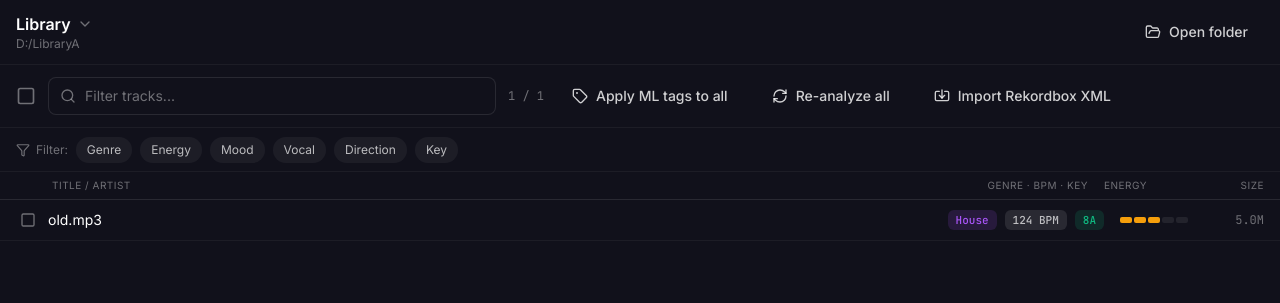
it: <LibraryBrowser /> — new-tracks banner › clears after the incremental analyze the banner itself starts
Open LibraryB through the switcher so the banner probe runs.
Step 1. Click the button "Library" → (54, 24), box x1=16 y1=12 x2=93 y2=36
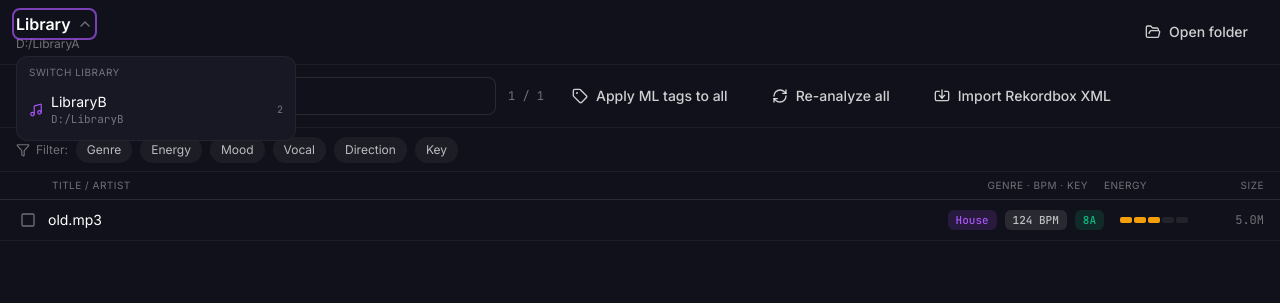
Step 2. Click the option "LibraryB D:/LibraryB 2" → (79, 102), box x1=21 y1=84 x2=291 y2=136
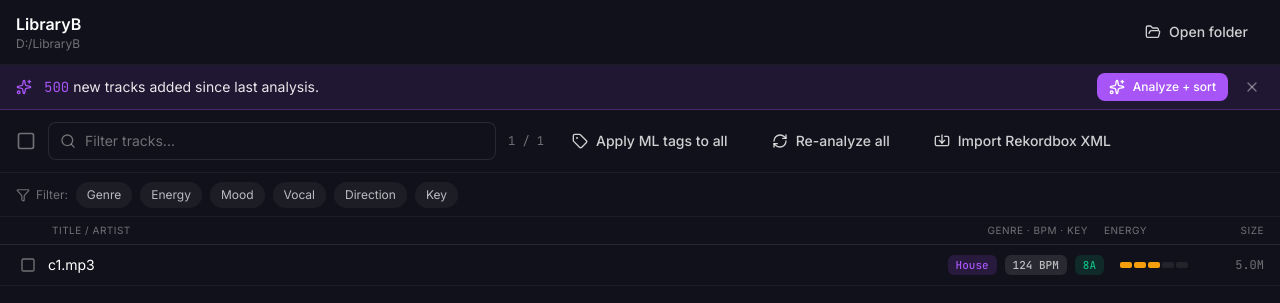
Check: the text "500 new tracks added since last analysis." is shown, box x1=44 y1=78 x2=319 y2=96
Step 3. Click the button "Analyze + sort" → (1162, 87), box x1=1097 y1=73 x2=1228 y2=101
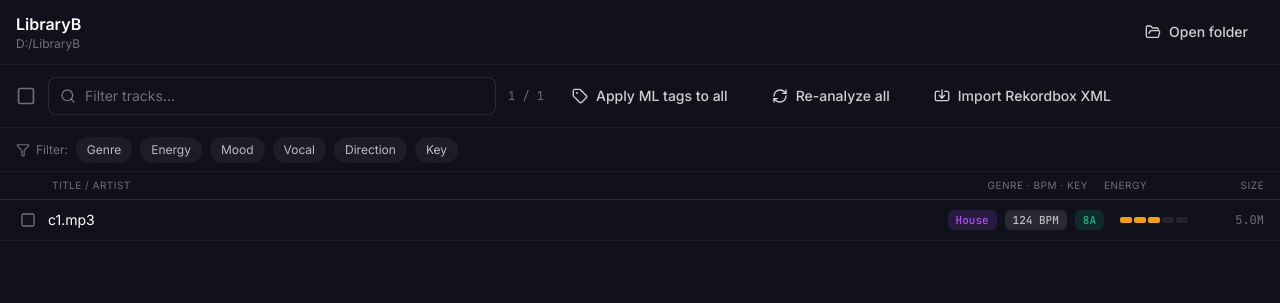
Check: the text "new tracks added since last" is gone
